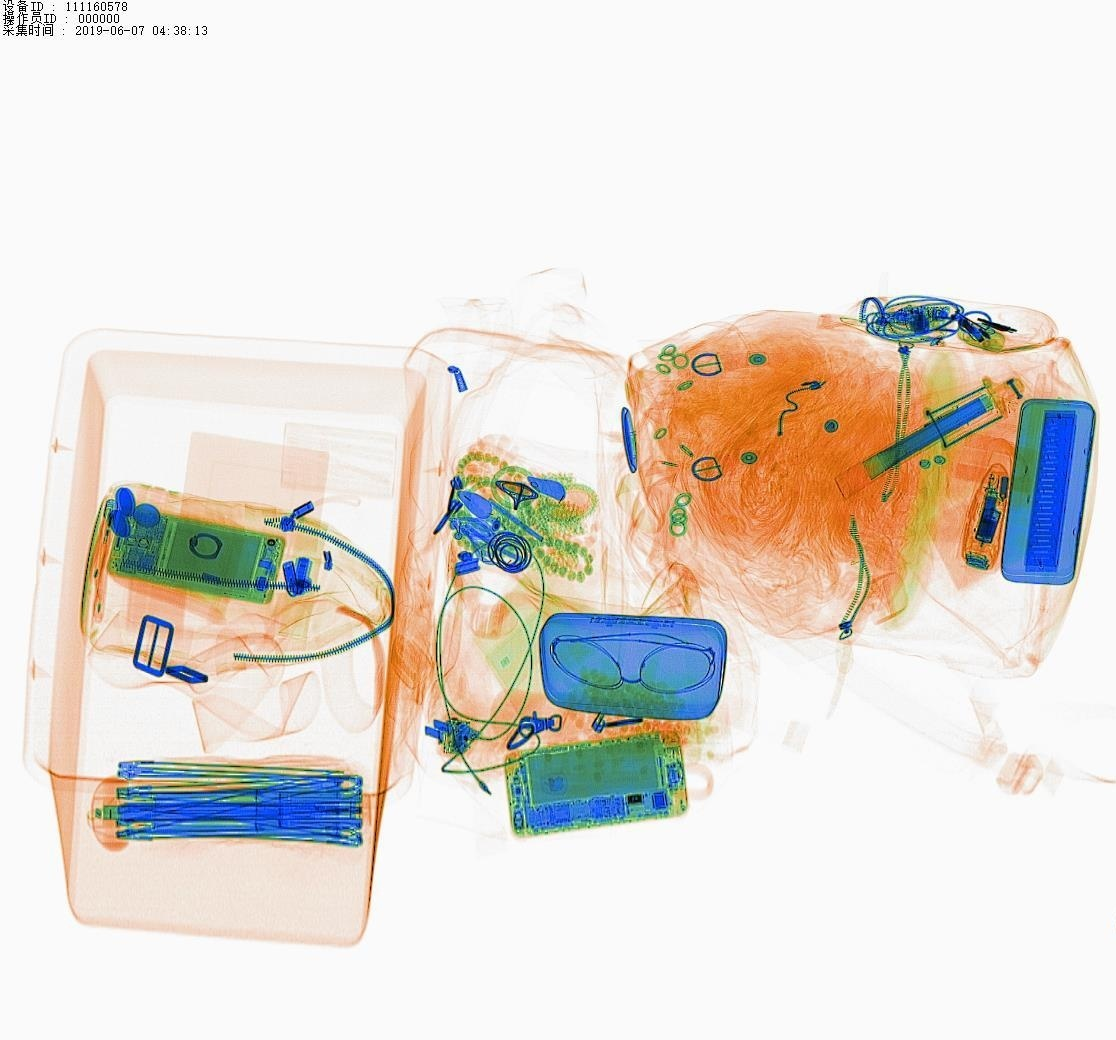NonmetallicFire: (74, 481, 122, 596)
